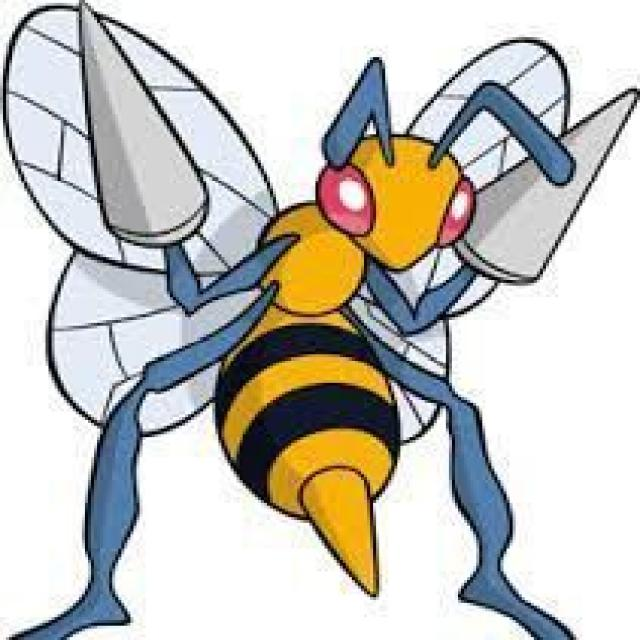Beedrill: (77, 53, 555, 595)
